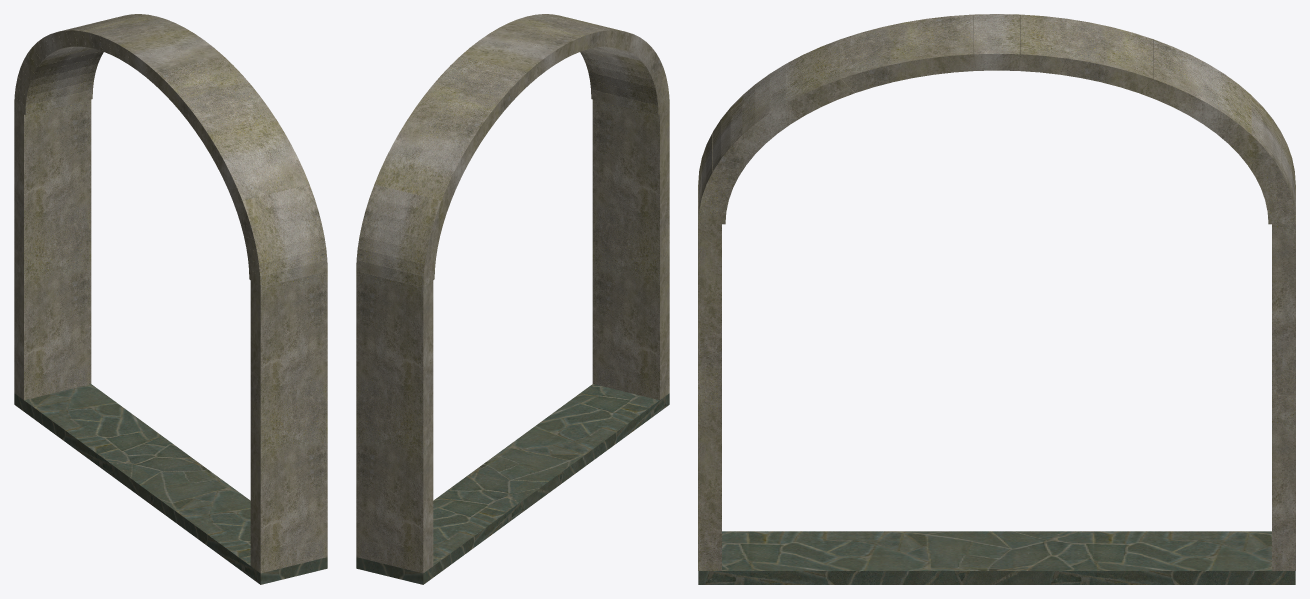
The model's file is in_impbig_blend_01.dae.
3 views of the same model, side by side, from view 1: azimuth 30°, elevation 25°; view 2: azimuth 150°, elevation 25°; view 3: azimuth 270°, elevation 25° (orthographic). The views are drawn at different scales.
Parts seen in each view (by area): view 1: plaster, stone; view 2: plaster, stone; view 3: plaster, stone.
Part boxes in pixels (bbox=[...]): plaster: bbox=[14, 14, 327, 573]; stone: bbox=[14, 384, 327, 584]; plaster: bbox=[356, 14, 669, 573]; stone: bbox=[356, 384, 669, 584]; plaster: bbox=[698, 14, 1295, 570]; stone: bbox=[698, 531, 1295, 584].
Size of what is drawn, in the model's own units: 61 by 388 by 380.
